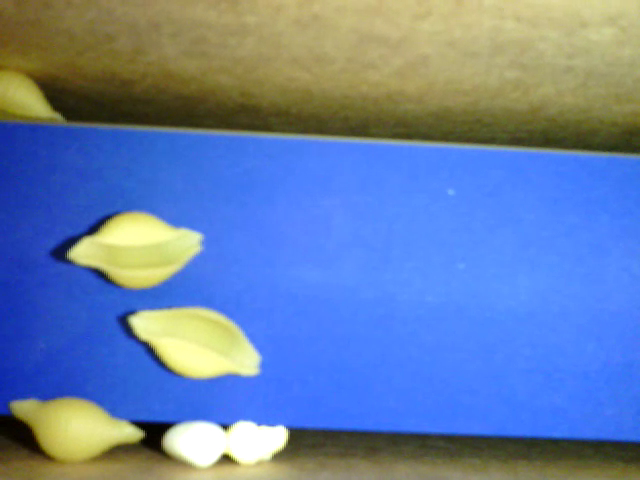shell: (64, 212, 206, 293), (125, 305, 262, 380), (10, 392, 144, 462), (1, 72, 69, 124)
